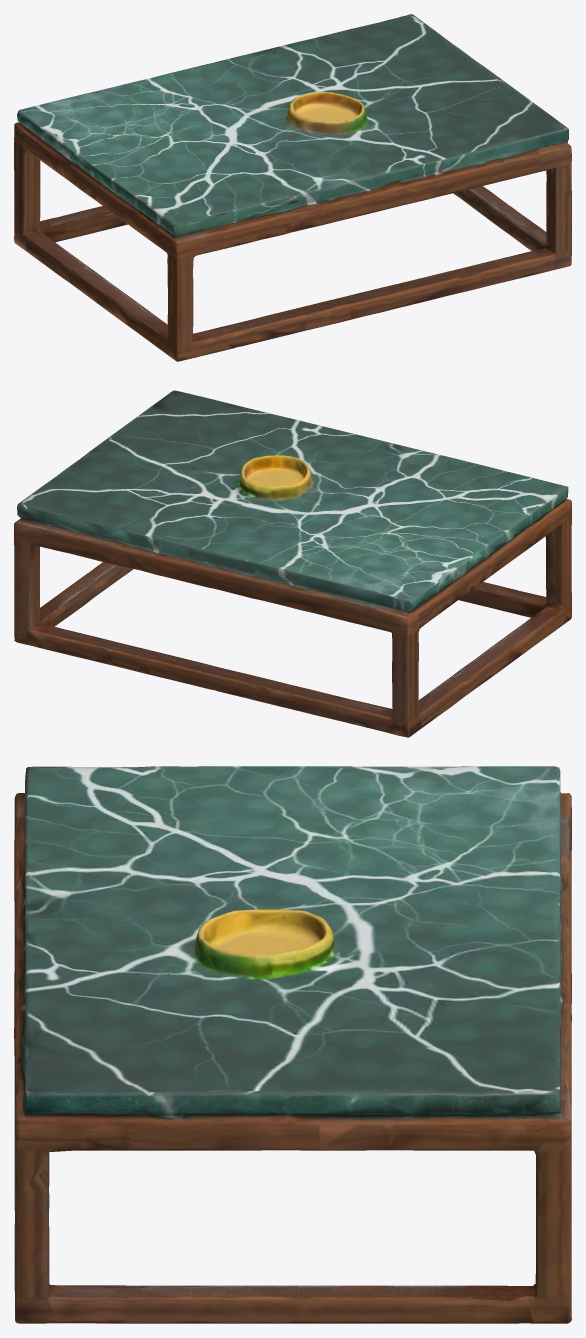
The model's file is smoke-low-table-marble.glb.
The picture shows the model from 3 angles, top to bottom: view 1: azimuth 30°, elevation 25°; view 2: azimuth 150°, elevation 25°; view 3: azimuth 270°, elevation 25°; orthographic projection. The views are drawn at different scales.
Size of the model in its own units: 2 by 0.7139 by 1.43.
Materials: 1 (1 with a texture image).
